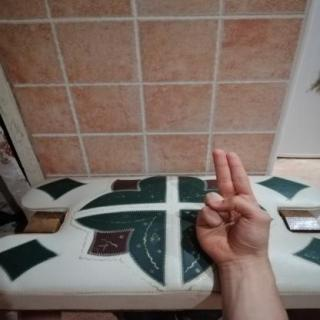TA: (183, 140, 284, 272)
